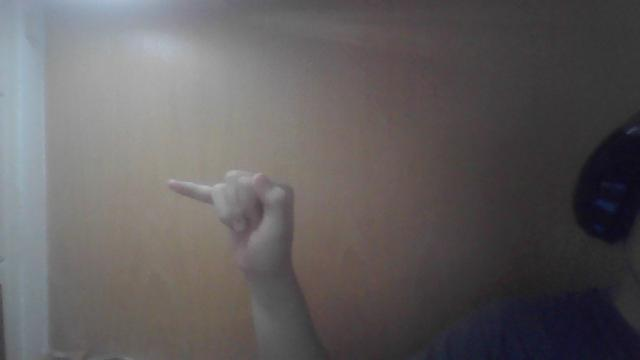Right: (167, 173, 296, 267)
